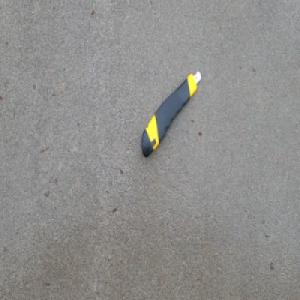Cutter: (141, 70, 201, 160)
